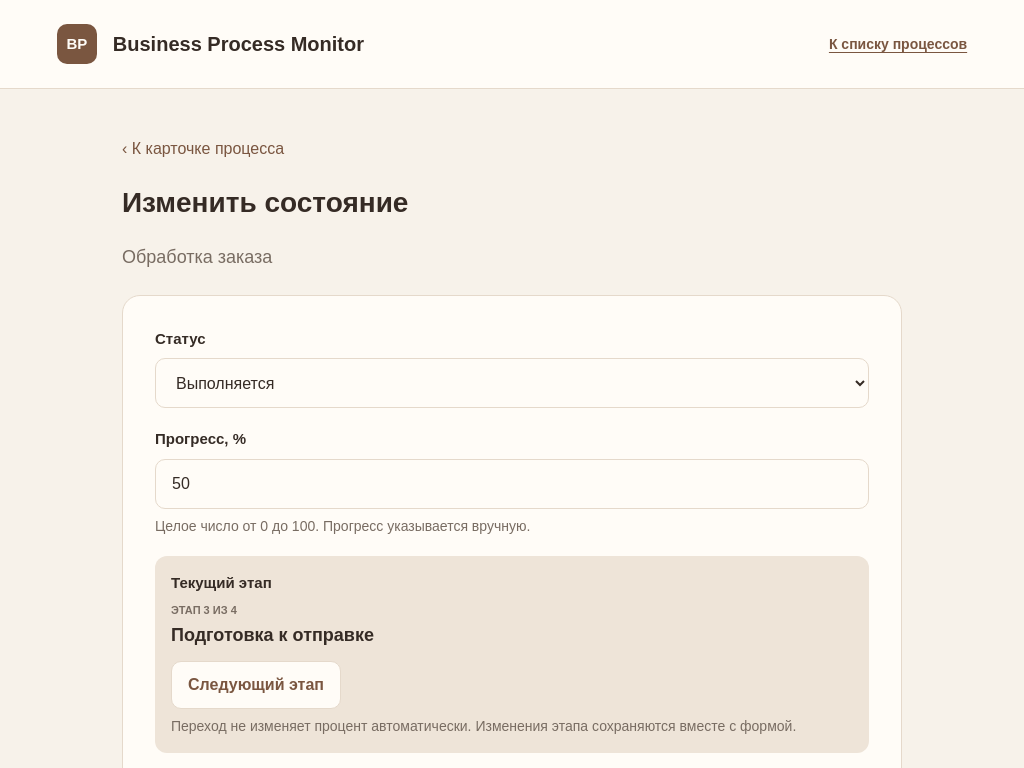
Test: R1 / FE-016: валидация перед сохранением › V02: -1 (отрицательное число) вызывает ошибку без записи и потери черновика
Replace the text in the field labelled "Прогресс, %" with "-1" at (512,484), box [155,459,869,509]
(page scrolled)
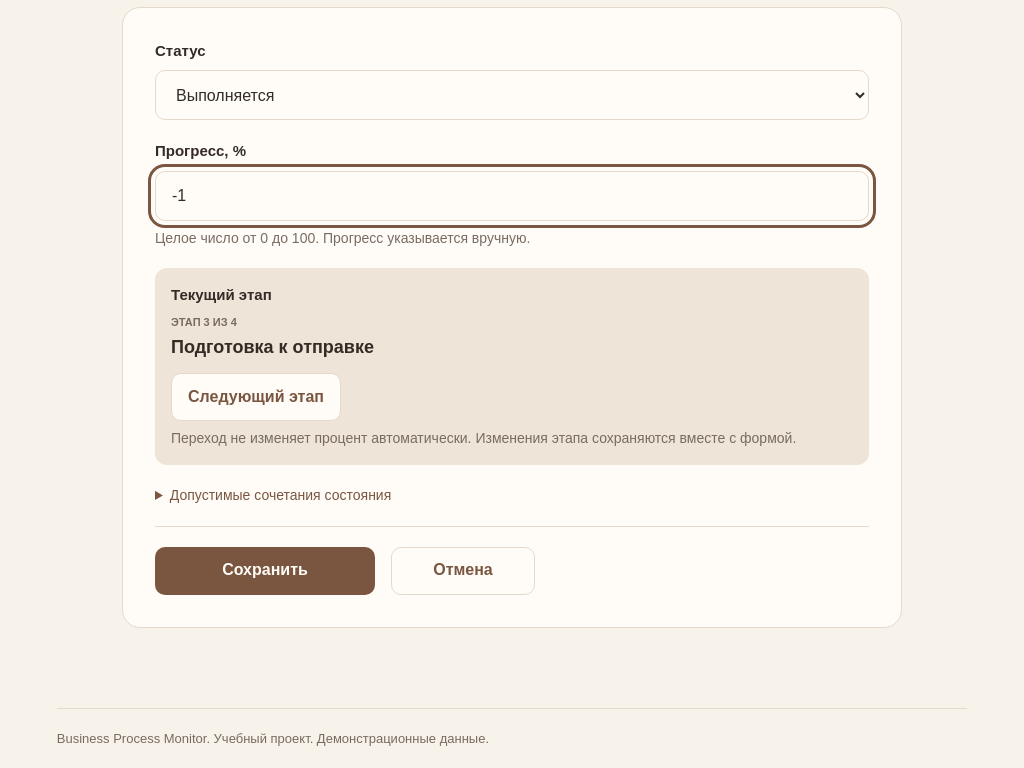
Click the button "Сохранить".
click(265, 571)  # box [155,547,375,595]
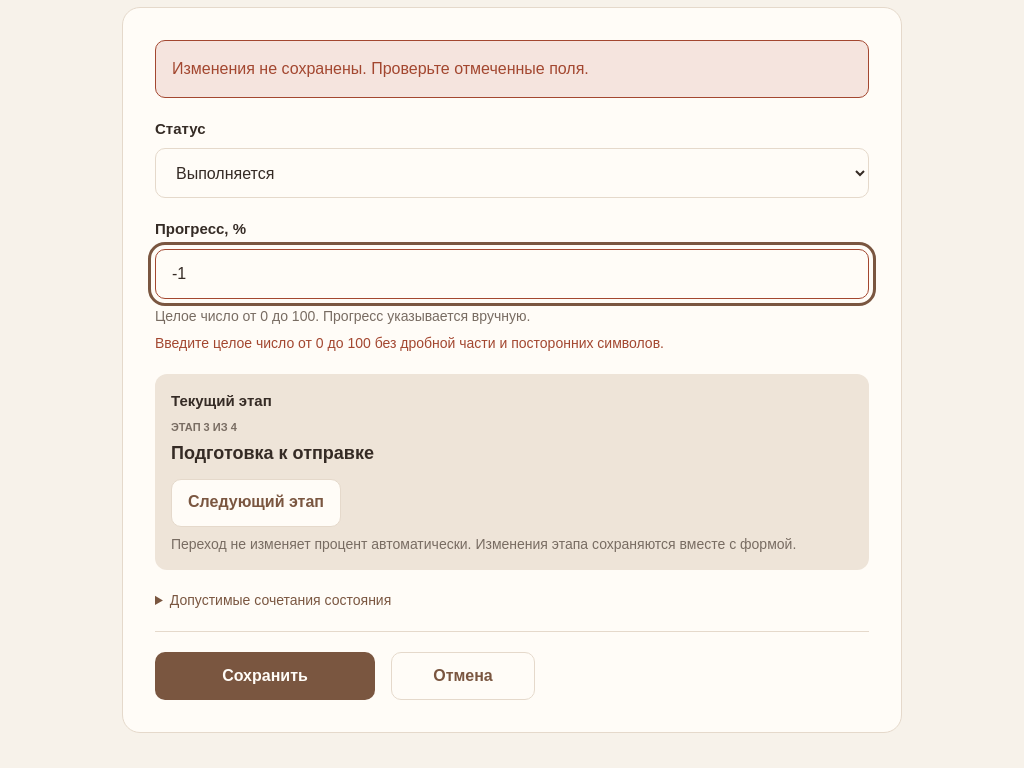
Now the message shows "Изменения не сохранены", box [172,60,589,77]
